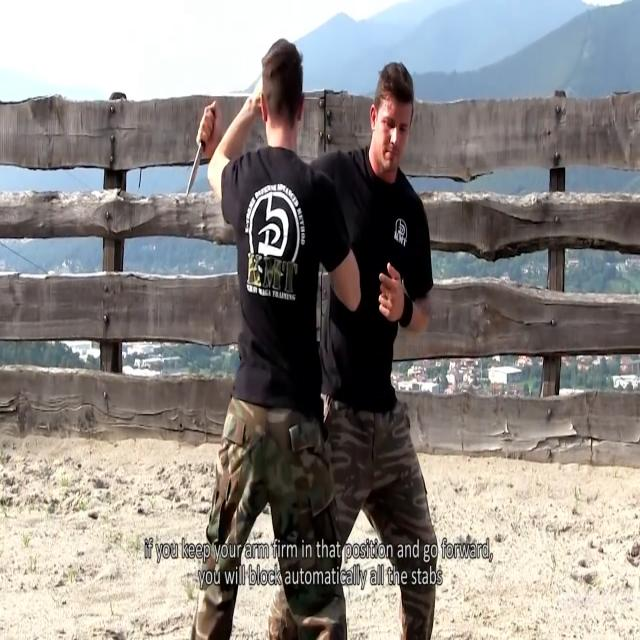knife: (184, 144, 202, 208)
